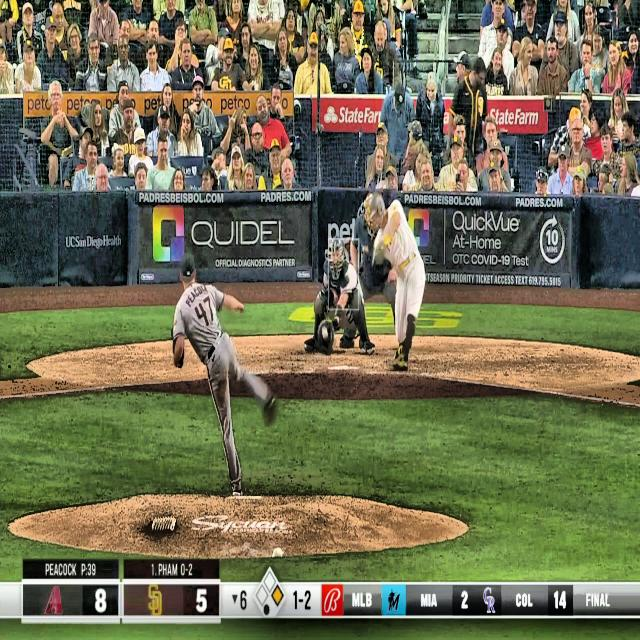baseball: (321, 324, 328, 340)
